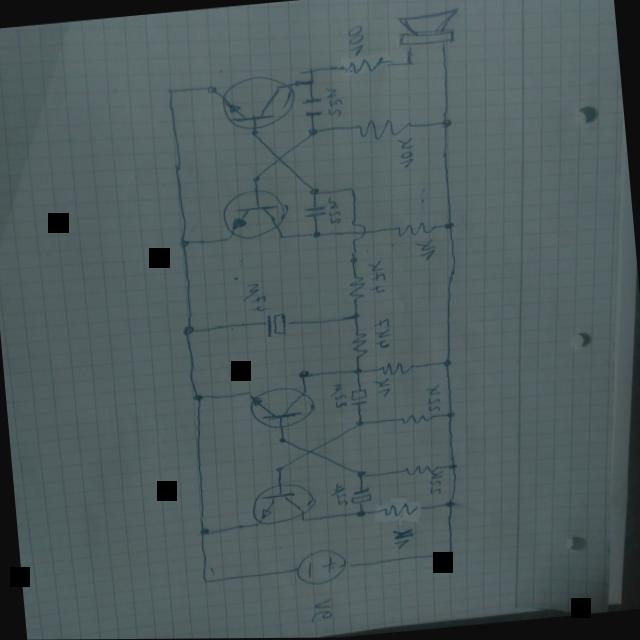capacitor: (264, 312, 288, 338), (300, 97, 324, 118), (348, 487, 372, 504), (348, 388, 368, 406), (302, 204, 326, 218)
crossover: (348, 219, 368, 242), (269, 150, 290, 166), (298, 444, 322, 458)
junction: (293, 367, 311, 380), (162, 84, 178, 97), (439, 116, 454, 129), (180, 324, 196, 336), (438, 356, 455, 367), (440, 220, 458, 230), (202, 84, 220, 94), (308, 227, 323, 239), (248, 127, 264, 138), (176, 237, 191, 248), (190, 392, 206, 402), (306, 186, 320, 197), (306, 125, 318, 137), (350, 365, 363, 376), (349, 310, 362, 321), (274, 435, 289, 444), (441, 409, 456, 418), (250, 173, 262, 184), (352, 417, 365, 427), (198, 576, 212, 585), (347, 183, 358, 194), (196, 526, 208, 536), (272, 464, 284, 474), (305, 77, 317, 87), (275, 231, 288, 240), (348, 255, 361, 264), (401, 58, 414, 67), (355, 508, 367, 517), (354, 469, 366, 478), (303, 65, 315, 74), (444, 499, 454, 509), (250, 519, 260, 529), (446, 461, 458, 469), (298, 515, 308, 524), (293, 78, 303, 87), (218, 235, 228, 244), (446, 547, 455, 555), (245, 390, 252, 397)
resistor: (354, 115, 414, 141), (340, 55, 384, 76), (381, 500, 422, 517), (395, 220, 436, 237), (378, 358, 414, 376), (346, 273, 368, 301), (398, 411, 436, 425), (404, 462, 440, 476), (350, 332, 370, 357)
source: (292, 545, 350, 587)
text: (240, 281, 268, 313), (366, 259, 387, 293), (307, 596, 333, 623), (324, 85, 344, 119), (396, 136, 416, 169), (345, 24, 366, 55), (372, 318, 392, 349), (412, 238, 438, 261), (328, 381, 348, 409), (426, 383, 444, 414), (391, 527, 416, 549), (428, 469, 446, 495), (326, 196, 342, 225), (331, 482, 348, 507), (374, 377, 392, 398)
transistor: (218, 71, 299, 132), (220, 186, 288, 241), (249, 479, 318, 528), (246, 383, 316, 431)
